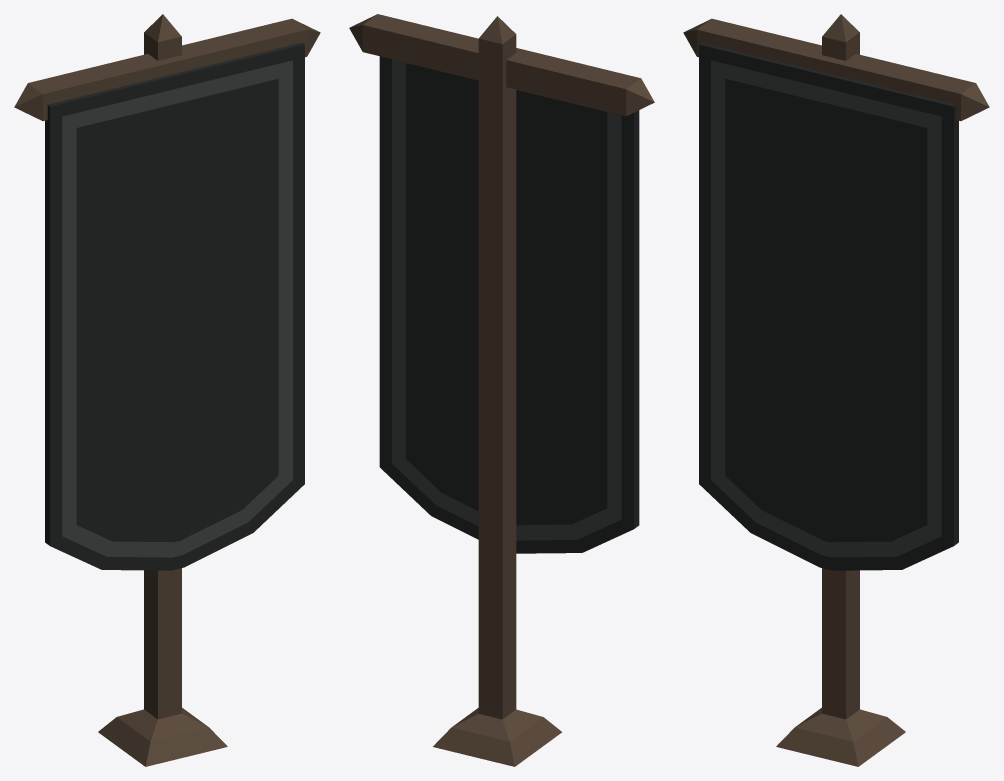
The model's file is Banner_4_Black.fbx.
The picture shows the model from 3 angles, left to right: view 1: azimuth 30°, elevation 25°; view 2: azimuth 150°, elevation 25°; view 3: azimuth 330°, elevation 25°; orthographic projection.
Visible parts, largest first — view 1: Banner_4_Black_Part_2, Banner_4_Black_Part_3, Banner_4_Black_Part_1; view 2: Banner_4_Black_Part_2, Banner_4_Black_Part_1, Banner_4_Black_Part_3; view 3: Banner_4_Black_Part_2, Banner_4_Black_Part_3, Banner_4_Black_Part_1.
Boxes of the visible parts, <box> form: Banner_4_Black_Part_2: <box>45,42,304,570</box>; Banner_4_Black_Part_3: <box>62,60,292,557</box>; Banner_4_Black_Part_1: <box>14,14,320,766</box>; Banner_4_Black_Part_2: <box>379,56,639,553</box>; Banner_4_Black_Part_1: <box>349,14,654,766</box>; Banner_4_Black_Part_3: <box>392,59,621,540</box>; Banner_4_Black_Part_2: <box>699,42,958,570</box>; Banner_4_Black_Part_3: <box>711,60,941,557</box>; Banner_4_Black_Part_1: <box>683,14,989,766</box>.
Bounding box in the file's own units: 120 × 272 × 32.4.
